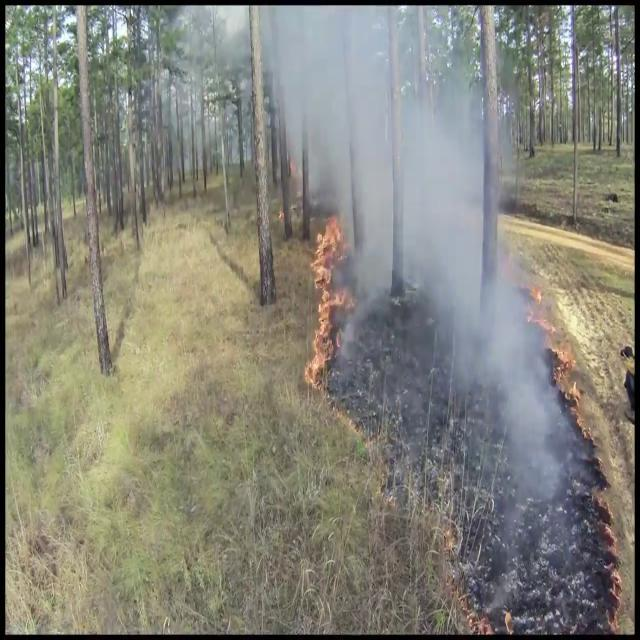Fire: (304, 211, 352, 382)
Smoke: (259, 0, 529, 265), (424, 202, 570, 493)
